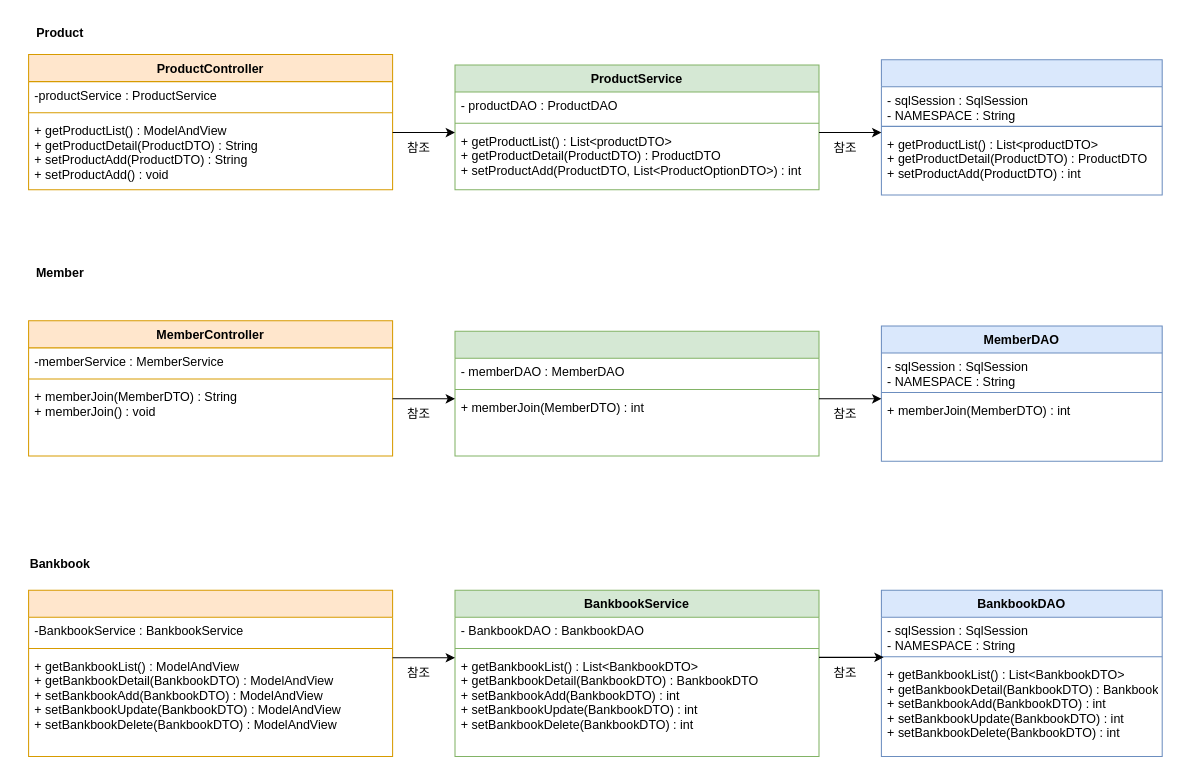
This 1202x777 diagram has some shape labels left out. The shapes that lost their labels are listed below. From the top down, each one's box as (x1, y1, x2, y2) in pixels, then its label:
(880, 59, 1162, 195): ProductDAO
(454, 330, 819, 456): MemberService
(28, 589, 393, 757): BankbookController
